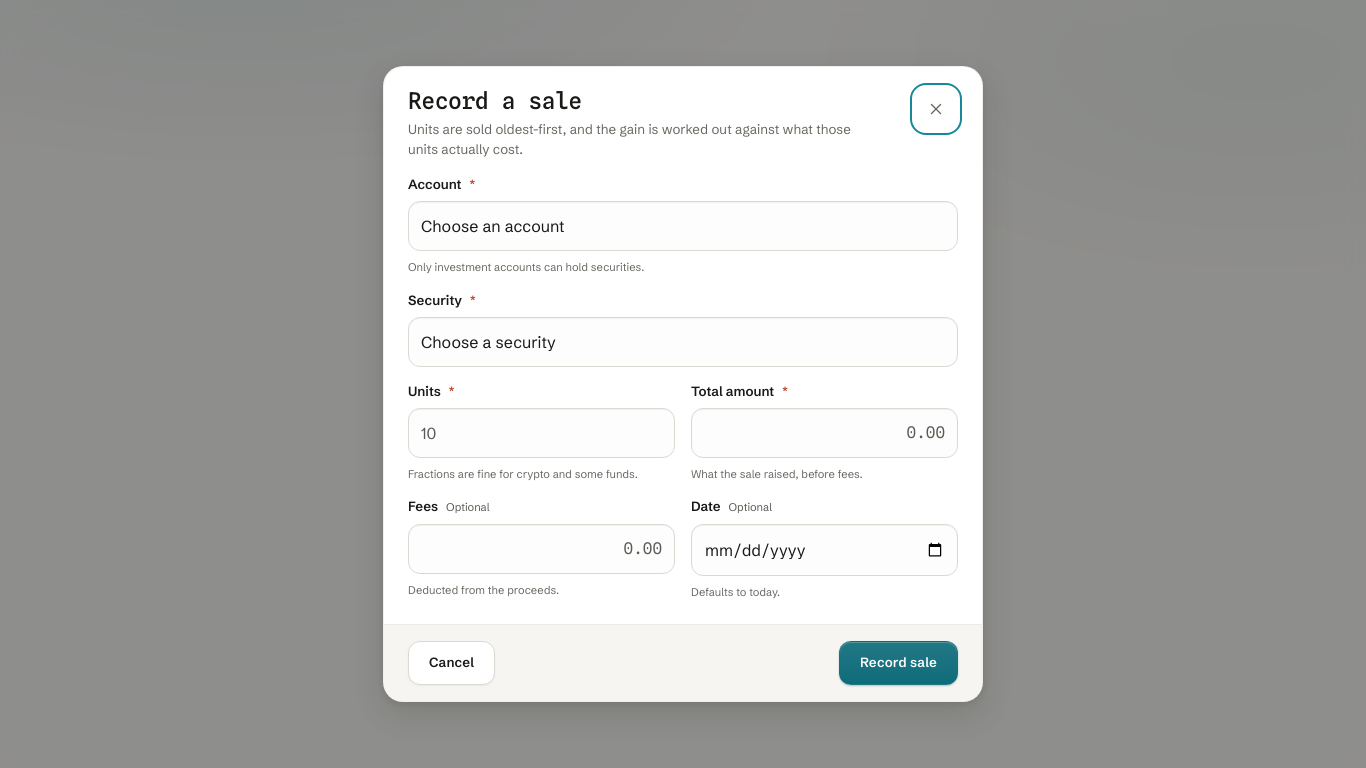
TradeModal › says what is held, so the common sell error is caught before the server
This screenshot has width=1366, height=768.
Select "ACME — Acme Inc" in the dropdown labelled "Security *". click: (683, 342)
box: [408,317,958,367]
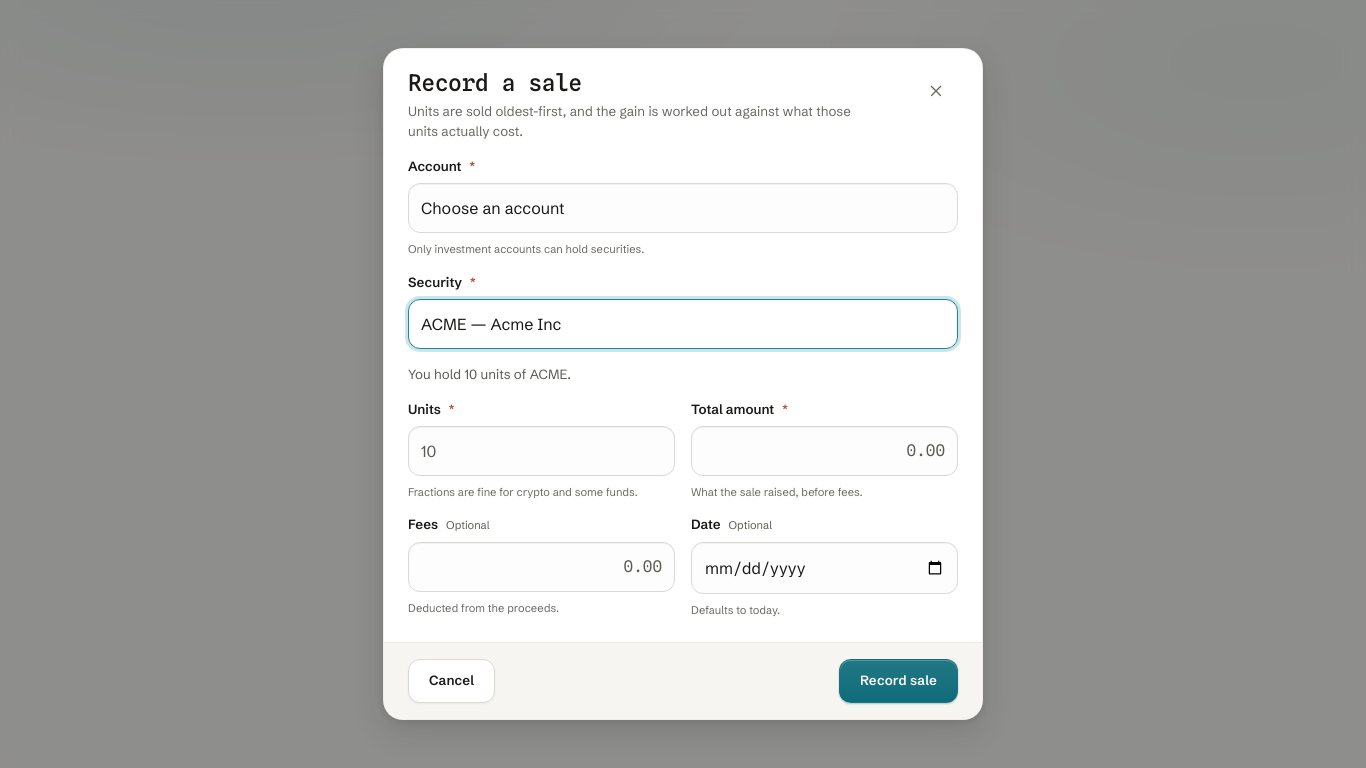
Now the text "You hold 10 units of ACME." is shown, box [408,366,571,382]
